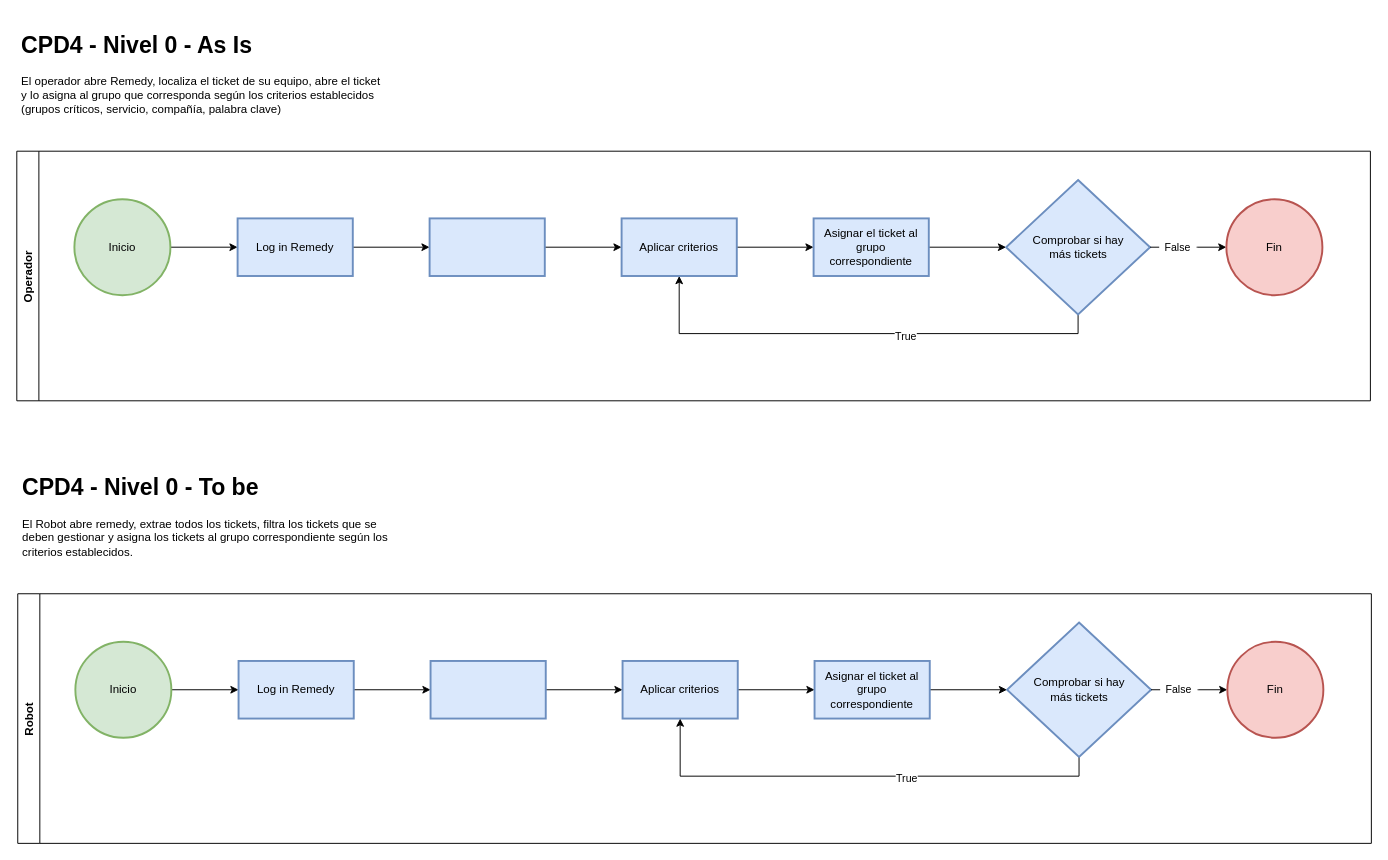
Image size: 1388x860. Some labels were removed from this diagram. The centre of each missing label's shape, as x and y in pixels:
Extraer tickets del grupo "CPD4-N2-SCS": point (487, 689)
Localizar tickets del grupo "CPD4-N2-SCS": point (486, 246)
